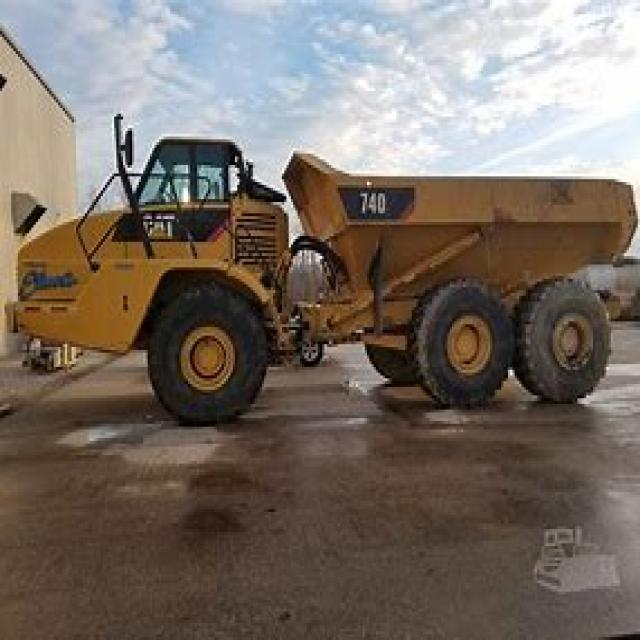dump_truck: (7, 102, 638, 438)
